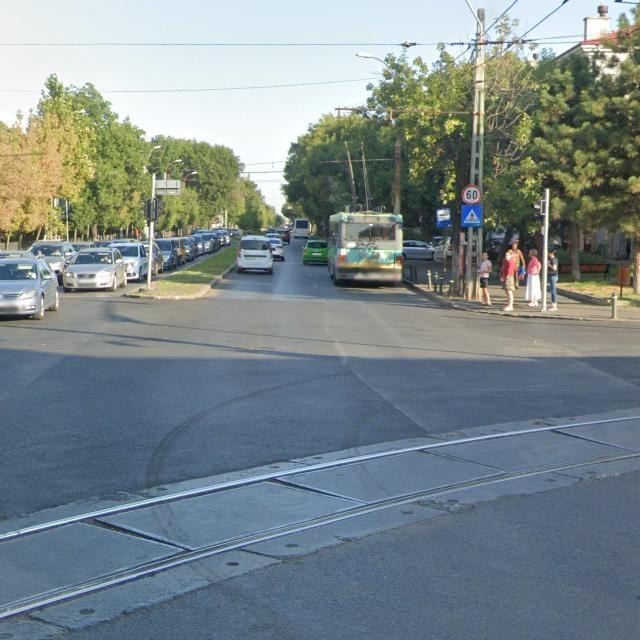forb_speed_over_60: (462, 185, 481, 204)
info_crosswalk: (462, 204, 483, 227)
